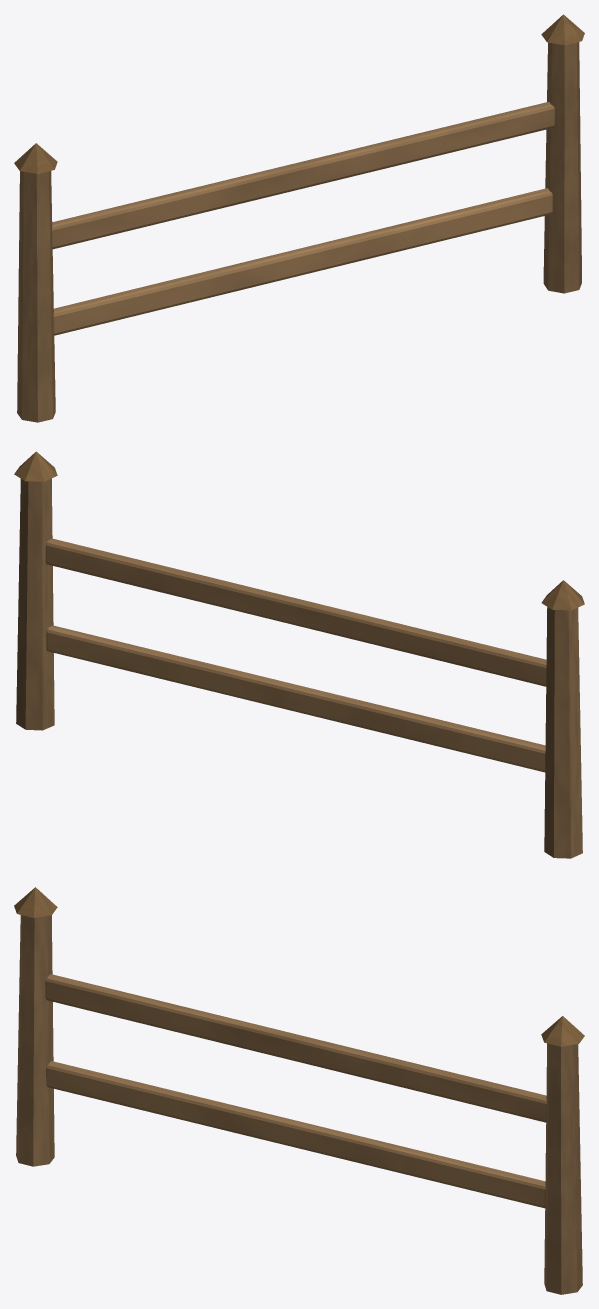
Rendered from fence_seg.hi.glb.
The picture shows the model from 3 angles, top to bottom: view 1: azimuth 30°, elevation 25°; view 2: azimuth 150°, elevation 25°; view 3: azimuth 330°, elevation 25°; orthographic projection.
Visible parts, largest first — view 1: fence_seg; view 2: fence_seg; view 3: fence_seg.
Boxes of the visible parts, x1,y1,x2,y2 form: fence_seg: [14, 14, 584, 422]; fence_seg: [14, 451, 584, 858]; fence_seg: [14, 887, 584, 1294].
Bounding box in the file's own units: 2.47 × 1.13 × 0.1616.
1 material, 1 textured.
